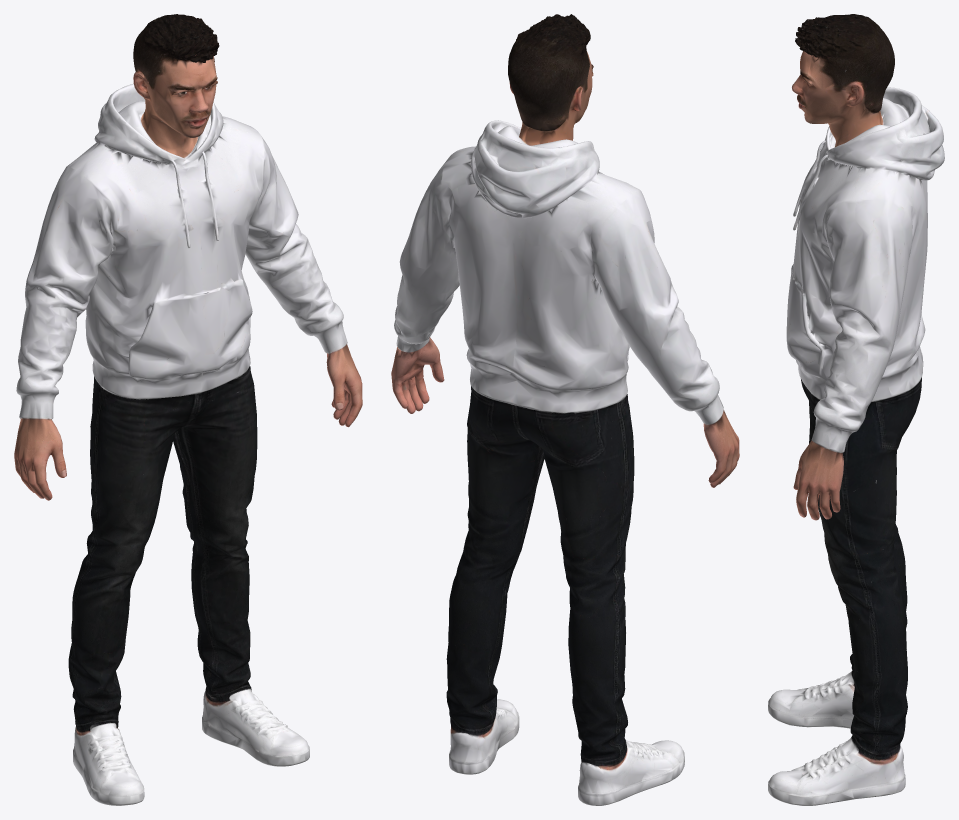
File: hoodie-man.glb
3 renders of one model, left to right at view 1: azimuth 30°, elevation 25°; view 2: azimuth 150°, elevation 25°; view 3: azimuth 270°, elevation 25°, orthographic.
Bounding box in the file's own units: 0.4767 × 1 × 0.2166.
Materials: 1 (1 with a texture image).
